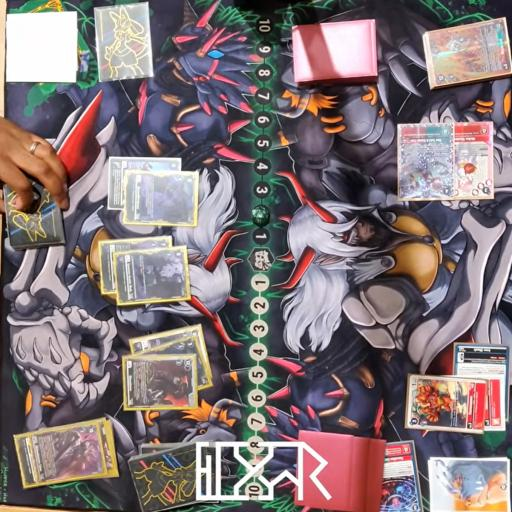card: (423, 16, 512, 94), (14, 420, 104, 486), (114, 245, 192, 312), (122, 166, 199, 228), (121, 353, 198, 415), (396, 120, 454, 202), (96, 236, 174, 296), (402, 378, 488, 432), (123, 338, 214, 388), (105, 154, 182, 212), (363, 436, 421, 512), (452, 122, 497, 202), (449, 340, 510, 383), (128, 322, 207, 354), (483, 378, 506, 433)
